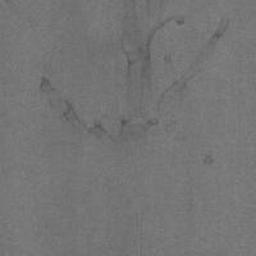Water spot: (37, 0, 230, 178), (201, 150, 215, 166), (161, 51, 173, 67)
